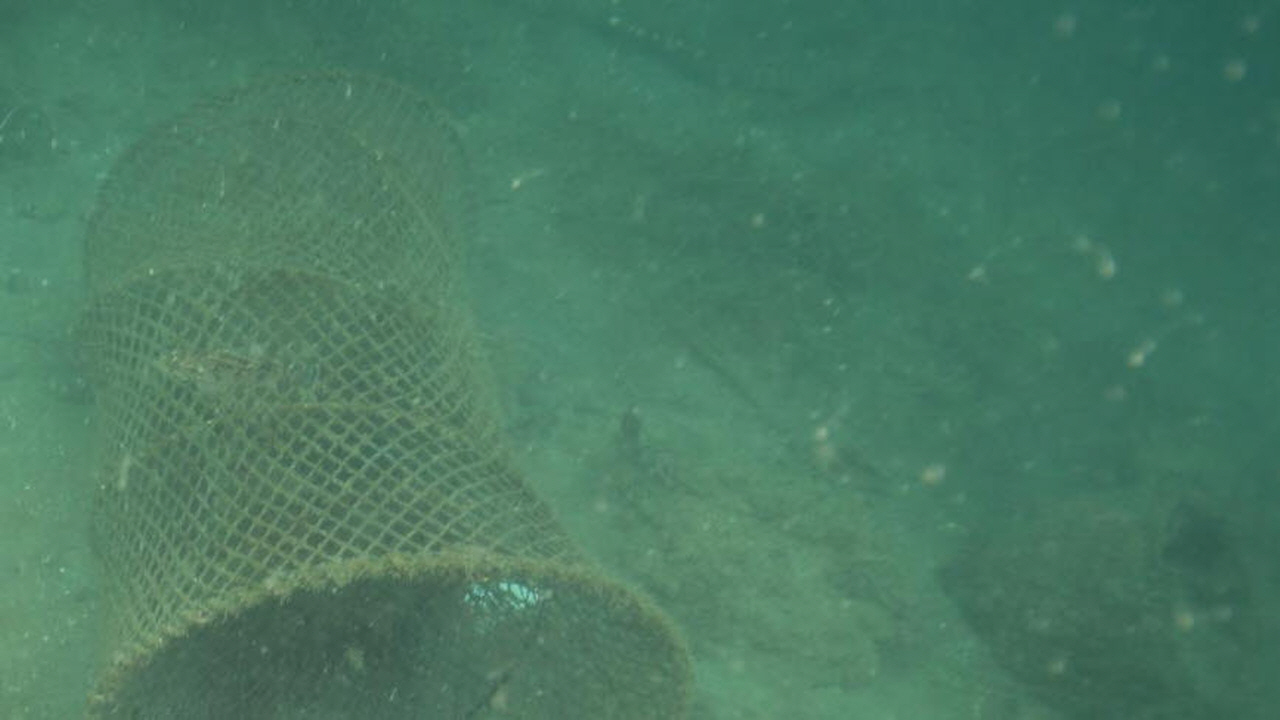spring fish trap: (73, 71, 699, 720)
